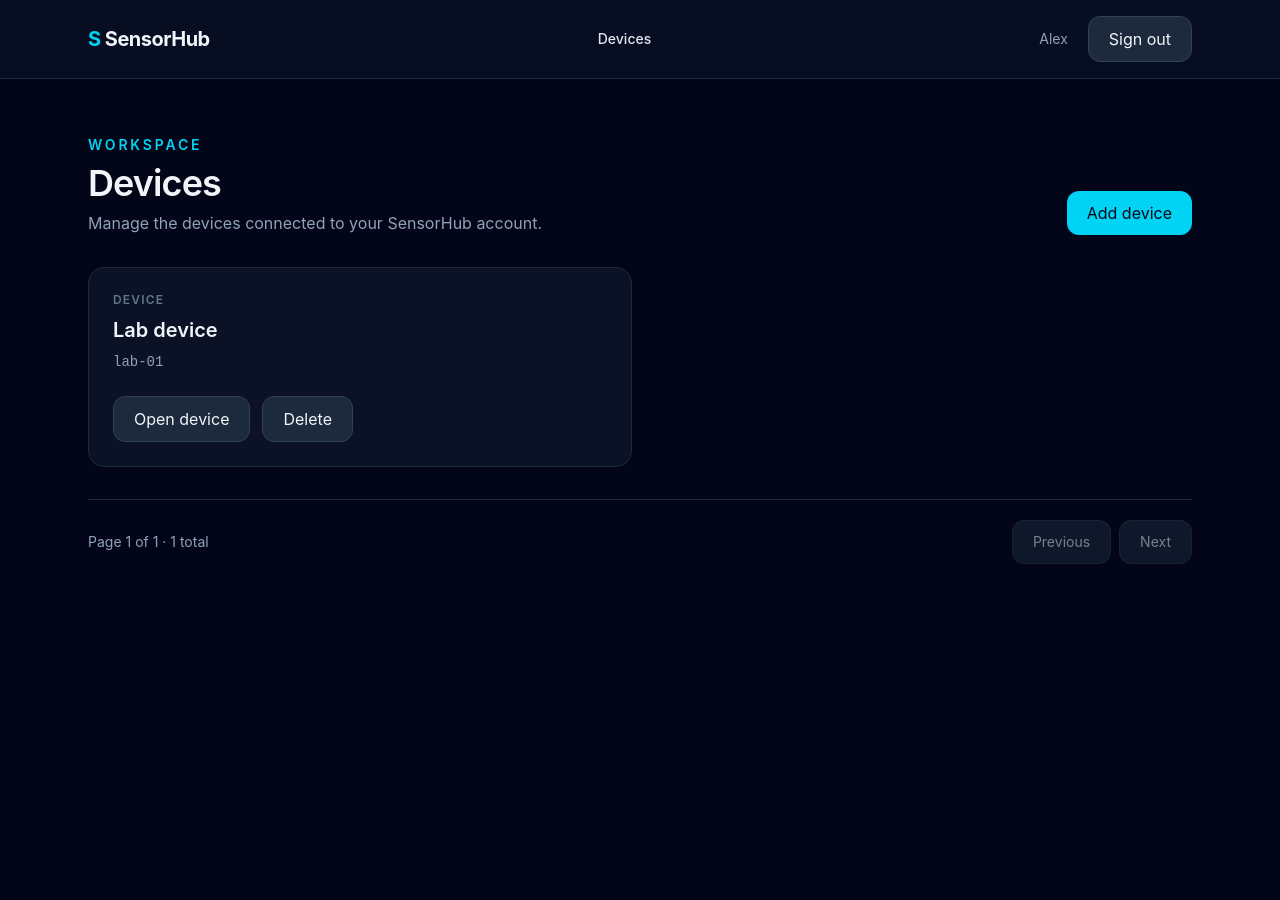
Test: Device dashboard › renders an owned device and opens its detail route
What coordinates should you click on to do the following:
click the link "Lab device"
I would click on:
 (165, 330)
Its box is [113, 318, 218, 342].
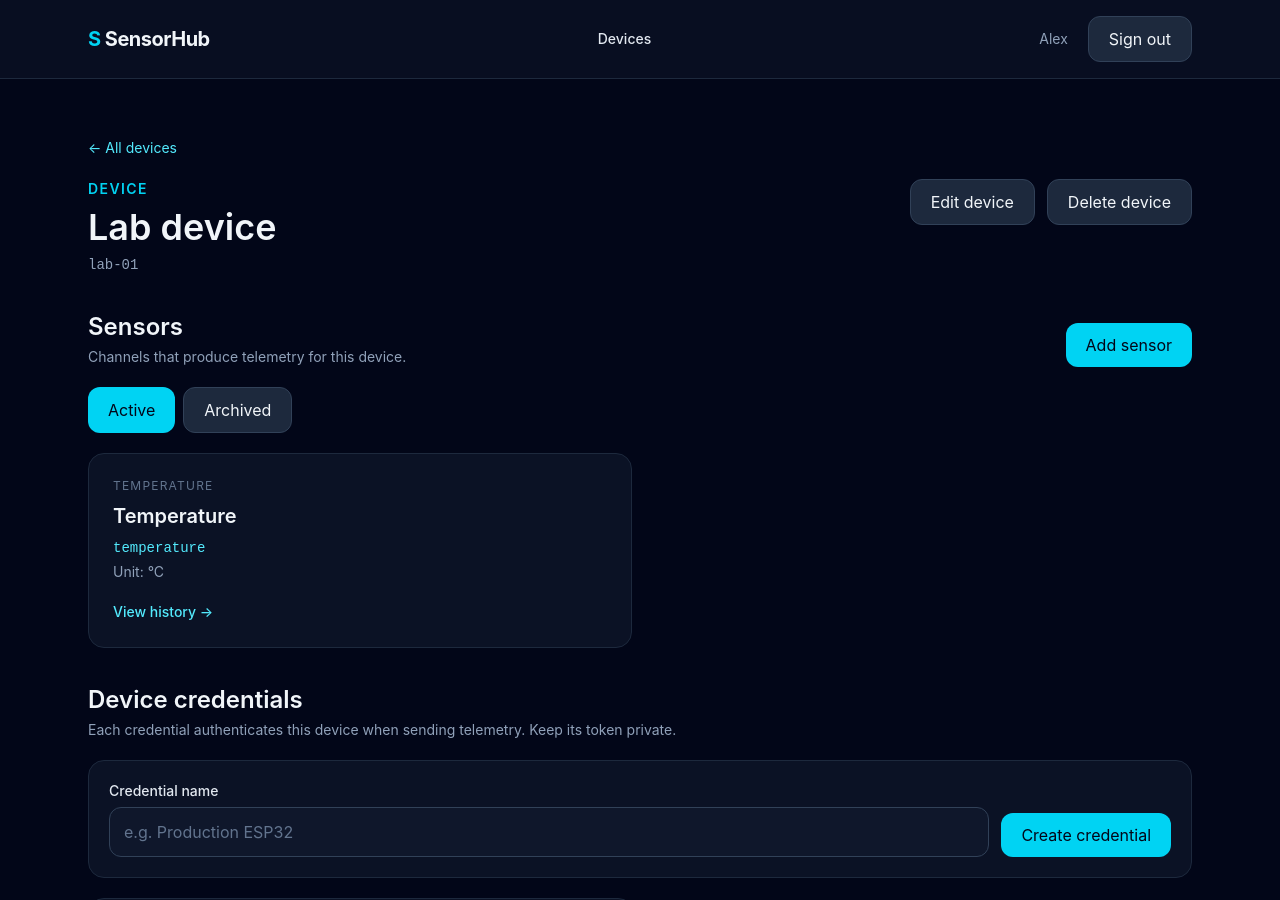
Expected: the heading "Lab device" is shown, [88, 207, 276, 247]
Expected: the link "Temperature" is shown, [113, 504, 237, 528]
